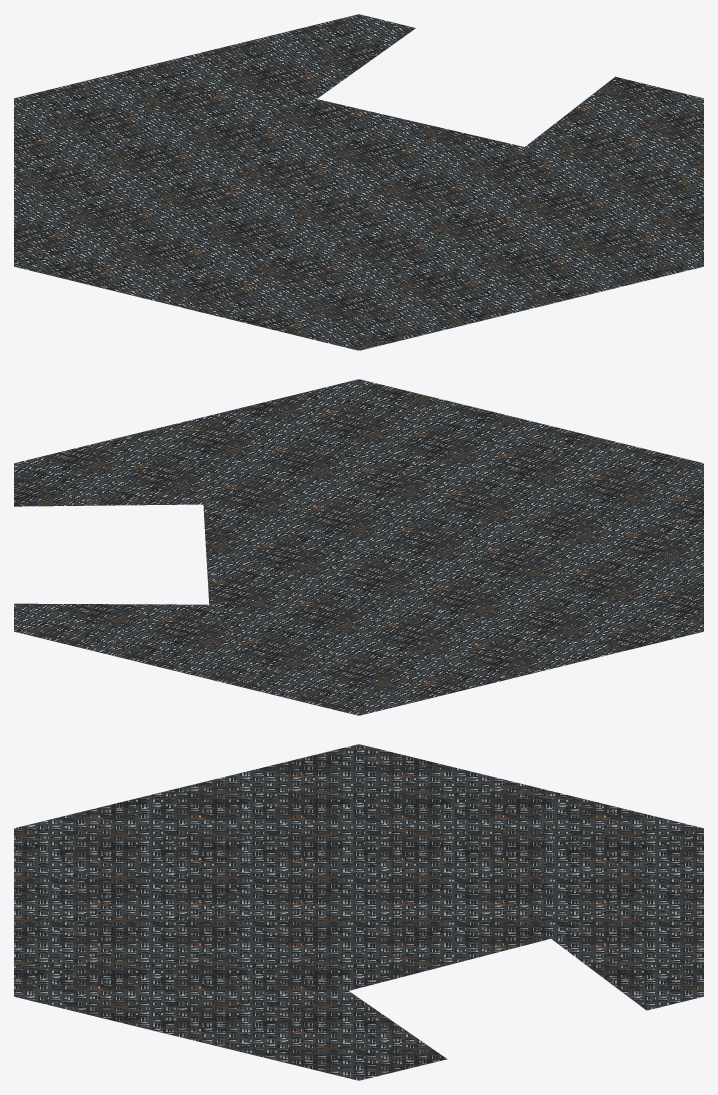
File: Polizei_BodenEingang_2569.glb
The picture shows the model from 3 angles, top to bottom: view 1: azimuth 30°, elevation 25°; view 2: azimuth 150°, elevation 25°; view 3: azimuth 270°, elevation 25°; orthographic projection.
Parts seen in each view (by area): view 1: polySurfaceShape1098; view 2: polySurfaceShape1098; view 3: polySurfaceShape1098.
Part boxes in pixels (x1,y1,x2,y2): polySurfaceShape1098: [14, 14, 703, 350]; polySurfaceShape1098: [14, 379, 703, 715]; polySurfaceShape1098: [14, 744, 703, 1080].
Bounding box in the file's own units: 1.66 × 6.27e-08 × 1.44.
Materials: 1 (1 with a texture image).
